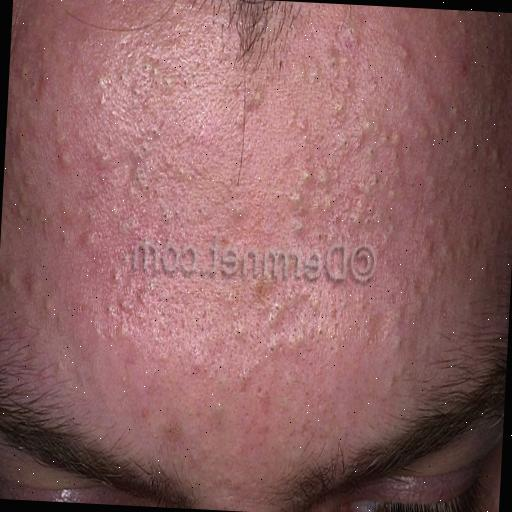Skin_Lesion: (54, 158, 106, 262), (254, 274, 316, 356), (126, 122, 176, 220), (348, 169, 410, 248), (112, 44, 179, 101), (0, 259, 53, 330), (286, 169, 334, 246), (10, 56, 57, 128), (198, 190, 254, 250), (414, 212, 460, 285), (300, 32, 349, 100), (4, 154, 41, 244), (208, 278, 246, 361), (424, 142, 470, 204), (336, 105, 376, 158), (359, 318, 410, 358), (453, 26, 485, 82), (436, 89, 470, 133), (206, 379, 232, 429), (270, 366, 300, 408), (390, 32, 420, 72), (381, 122, 406, 155), (484, 140, 506, 170)
